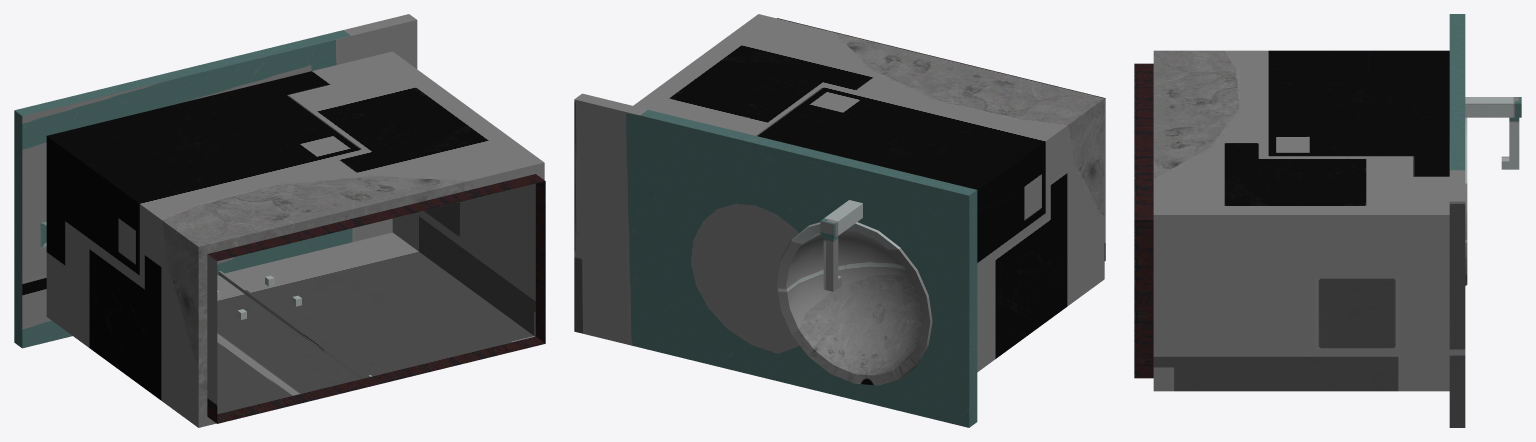
Rendered from Armari.FBX.
3 renders of one model, left to right at view 1: azimuth 30°, elevation 25°; view 2: azimuth 150°, elevation 25°; view 3: azimuth 270°, elevation 25°, orthographic. The views are drawn at different scales.
Visible parts, largest first — view 1: ArmariAixeta; view 2: ArmariAixeta; view 3: ArmariAixeta.
Boxes of the visible parts, bbox=[...] form: ArmariAixeta: bbox=[14, 14, 545, 427]; ArmariAixeta: bbox=[574, 14, 1105, 427]; ArmariAixeta: bbox=[1134, 14, 1521, 427].
Bounding box in the file's own units: 114 × 64.14 × 99.5.
1 material, 1 textured.
